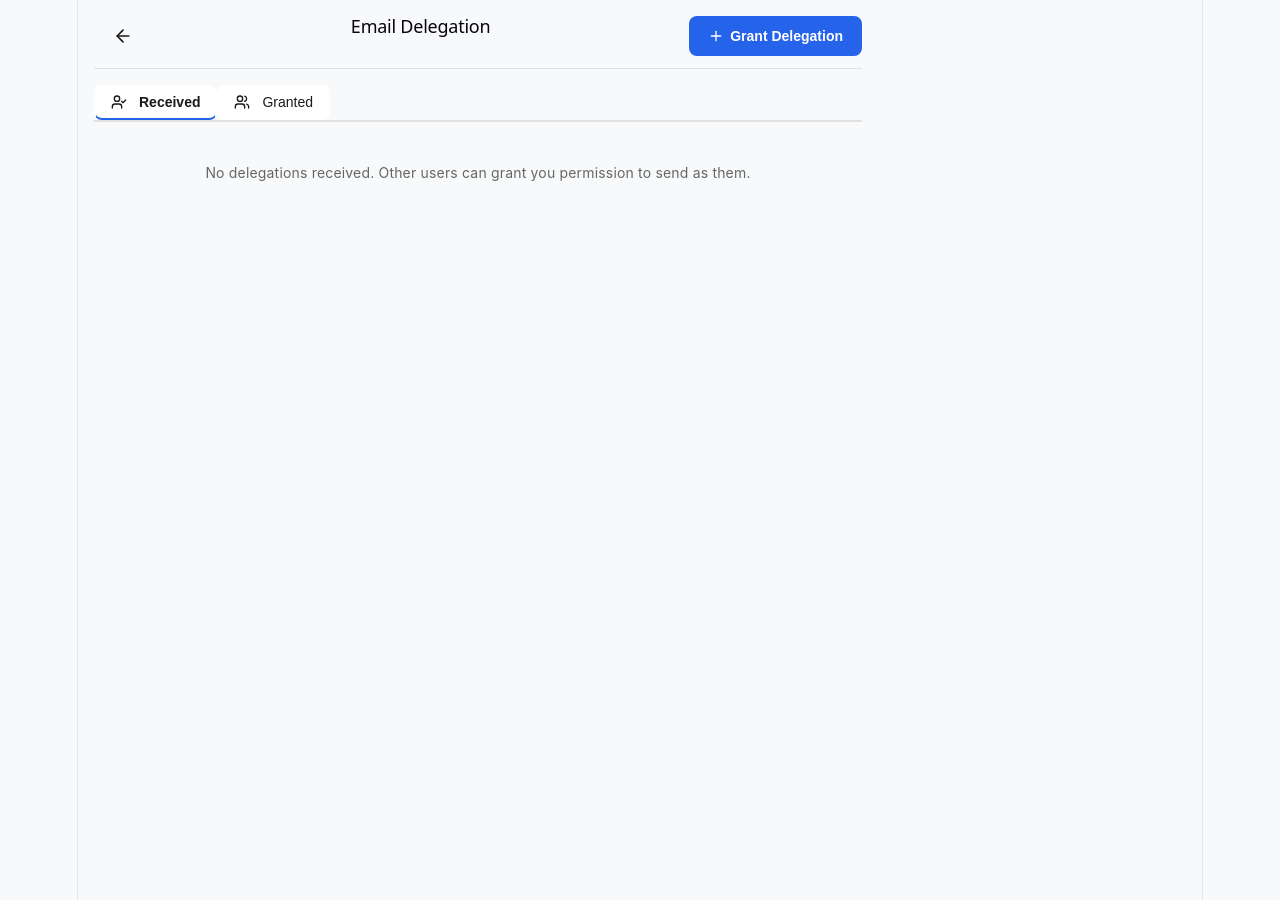
it: DelegationManager › switches to granted tab and shows granted delegations
Click the button "Granted": click(274, 102) [218,85,330,120]
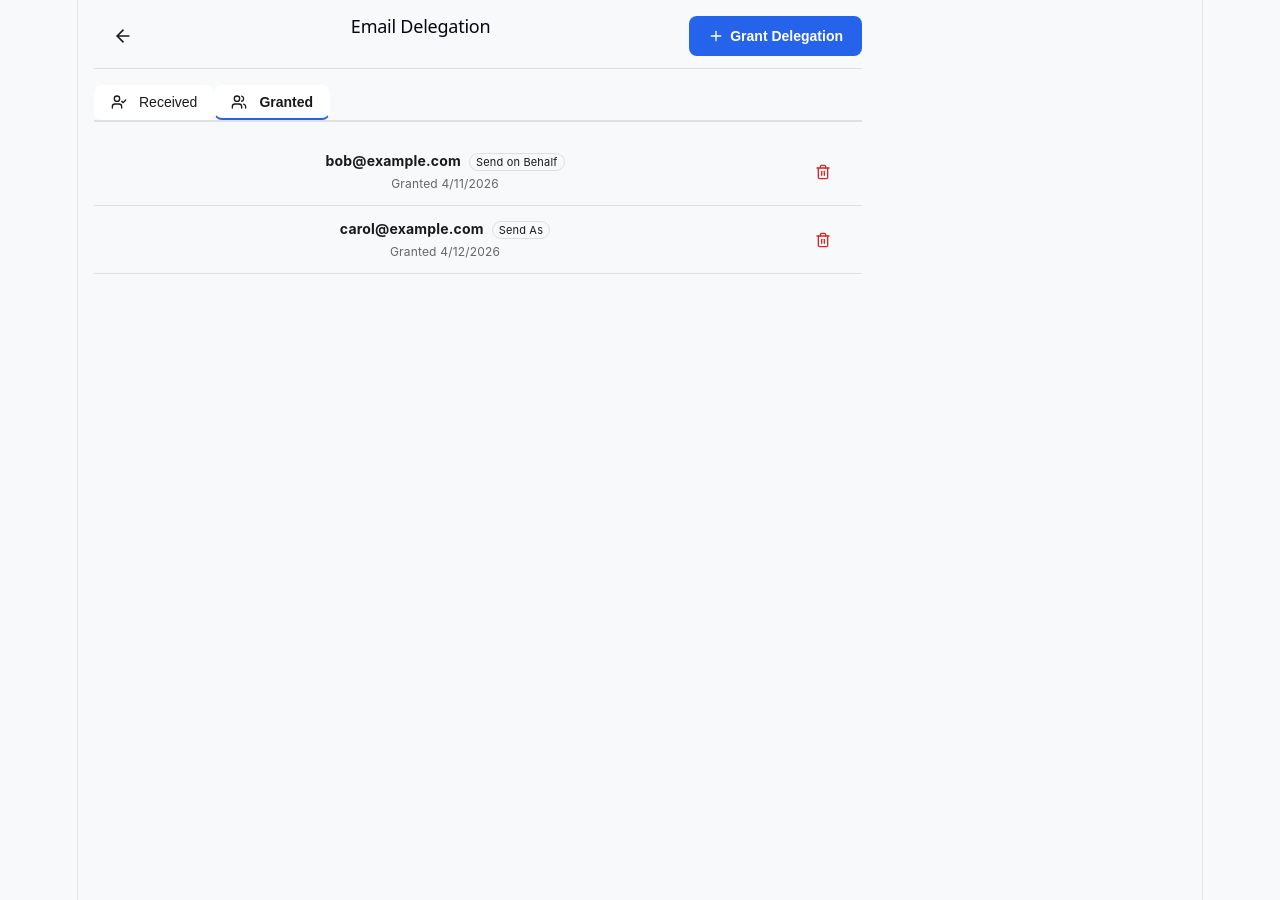
Now the text "bob@example.com" is shown, box [326,152,461,169]
Now the text "carol@example.com" is shown, box [340,220,484,237]
